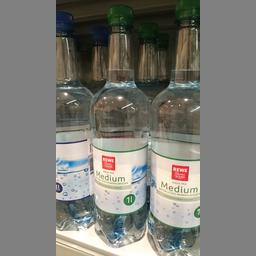water: (144, 0, 199, 255), (90, 6, 148, 247), (54, 8, 92, 233)
